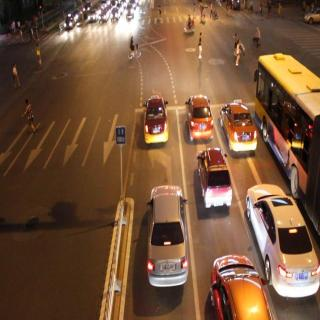BigCar: (257, 51, 320, 180)
Car: (246, 185, 320, 288), (146, 184, 190, 288), (210, 253, 269, 320), (197, 148, 233, 210), (222, 98, 258, 150), (186, 94, 213, 139), (144, 95, 168, 143), (64, 15, 74, 30), (125, 4, 134, 20), (86, 9, 97, 22), (111, 8, 119, 23), (99, 10, 108, 23)
